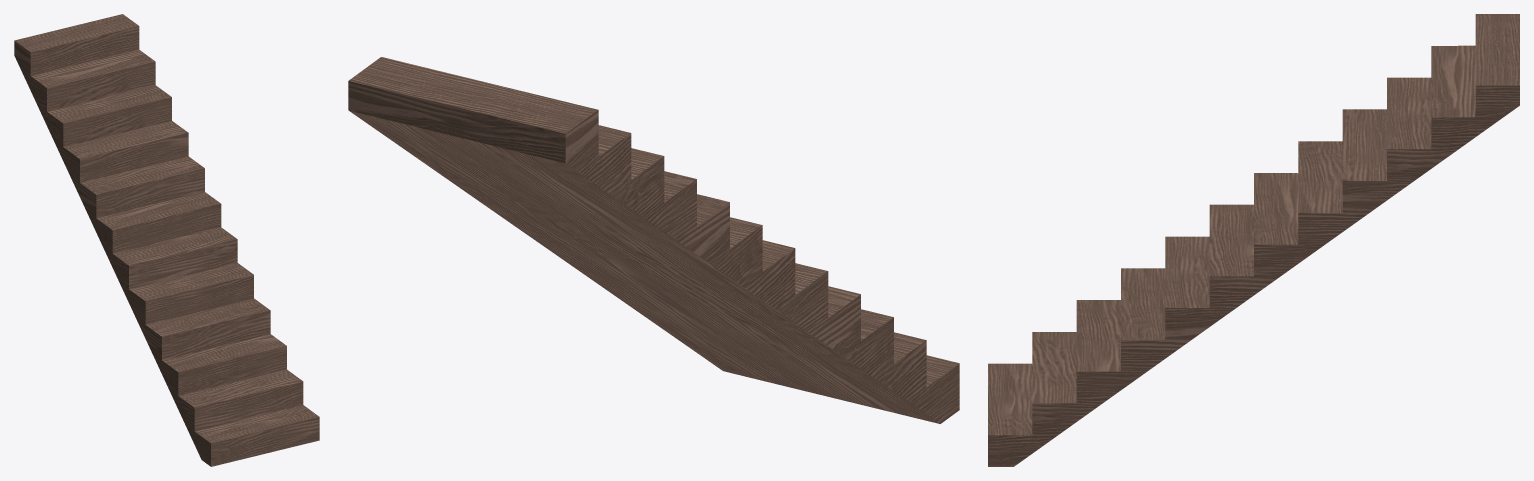
Rendered from ladder_005.fbx.
The picture shows the model from 3 angles, left to right: view 1: azimuth 30°, elevation 25°; view 2: azimuth 150°, elevation 25°; view 3: azimuth 270°, elevation 25°; orthographic projection. The views are drawn at different scales.
Visible parts, largest first — view 1: ladder_005; view 2: ladder_005; view 3: ladder_005.
Part boxes in pixels (x1,y1,x2,y2): ladder_005: (14, 14, 319, 466); ladder_005: (348, 57, 959, 423); ladder_005: (988, 14, 1519, 466).
Bounding box in the file's own units: 162 × 508 × 402.
